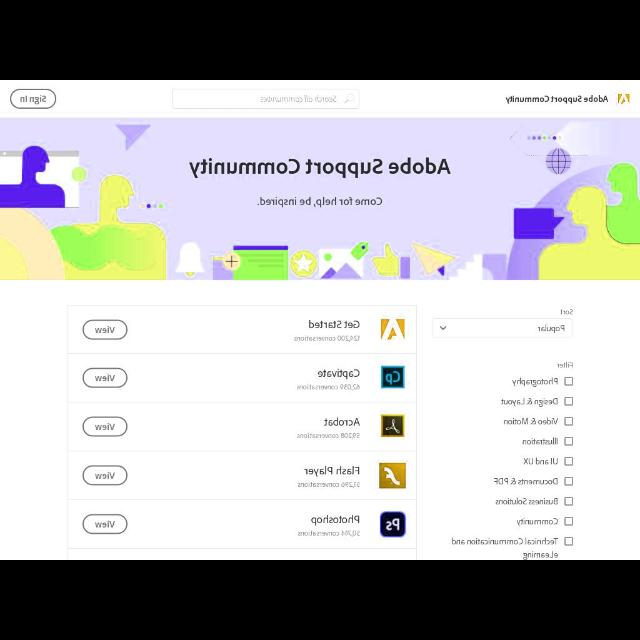checkbox: (564, 395, 574, 407), (563, 536, 575, 546), (564, 376, 574, 386), (564, 416, 574, 426), (564, 436, 572, 446), (564, 476, 572, 486), (565, 497, 573, 505), (564, 516, 572, 524), (564, 458, 572, 464)
icon: (614, 93, 632, 105), (342, 94, 352, 106), (440, 326, 448, 330)
image: (0, 118, 638, 280), (378, 464, 406, 490), (380, 512, 406, 538), (378, 318, 406, 340), (381, 366, 405, 390), (380, 414, 404, 436)
input: (163, 89, 357, 108)
spinner: (437, 322, 569, 336)
text: (451, 535, 559, 559), (504, 95, 610, 104), (302, 464, 362, 478), (500, 396, 560, 408), (294, 382, 360, 392), (493, 496, 559, 506), (308, 513, 362, 525), (298, 480, 360, 490), (306, 318, 362, 329), (260, 96, 336, 104), (493, 478, 559, 487), (503, 416, 559, 426), (292, 334, 361, 342), (510, 377, 560, 388), (294, 432, 360, 440), (298, 529, 360, 537), (316, 368, 360, 378), (515, 516, 559, 526), (522, 435, 558, 447), (519, 456, 559, 466), (322, 418, 362, 427), (94, 325, 116, 335), (19, 96, 46, 104), (94, 472, 116, 481), (537, 326, 565, 332), (95, 424, 114, 432), (92, 376, 116, 382), (94, 522, 116, 528), (560, 308, 574, 316), (556, 362, 574, 368)
textbutton: (8, 87, 58, 109), (82, 368, 126, 388), (82, 514, 126, 534), (82, 418, 126, 437), (82, 320, 128, 338), (82, 466, 128, 484)
toolbar: (1, 84, 637, 112)
